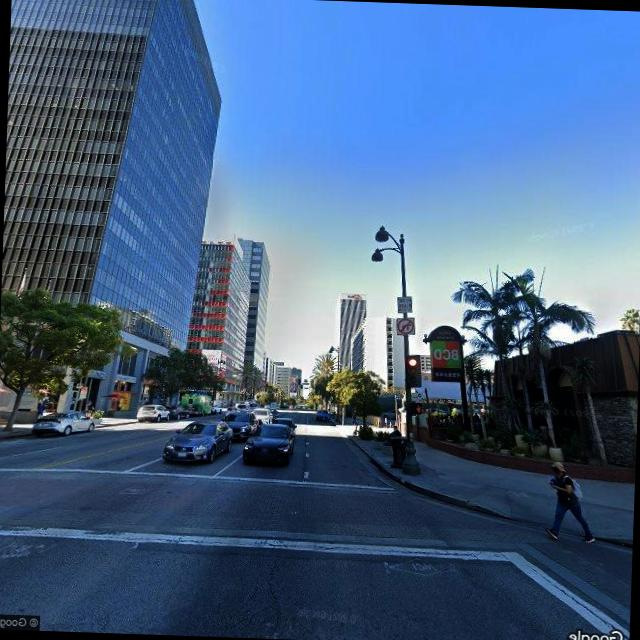crack: (264, 549, 285, 610)
